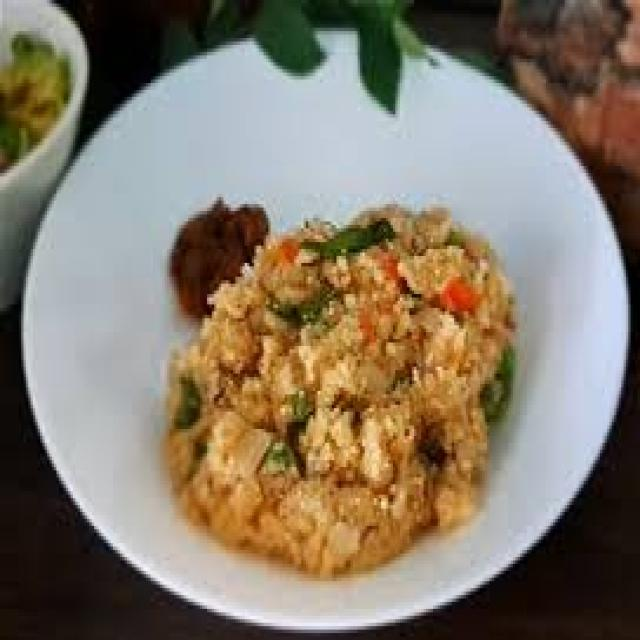UPMA: (162, 204, 515, 567)
